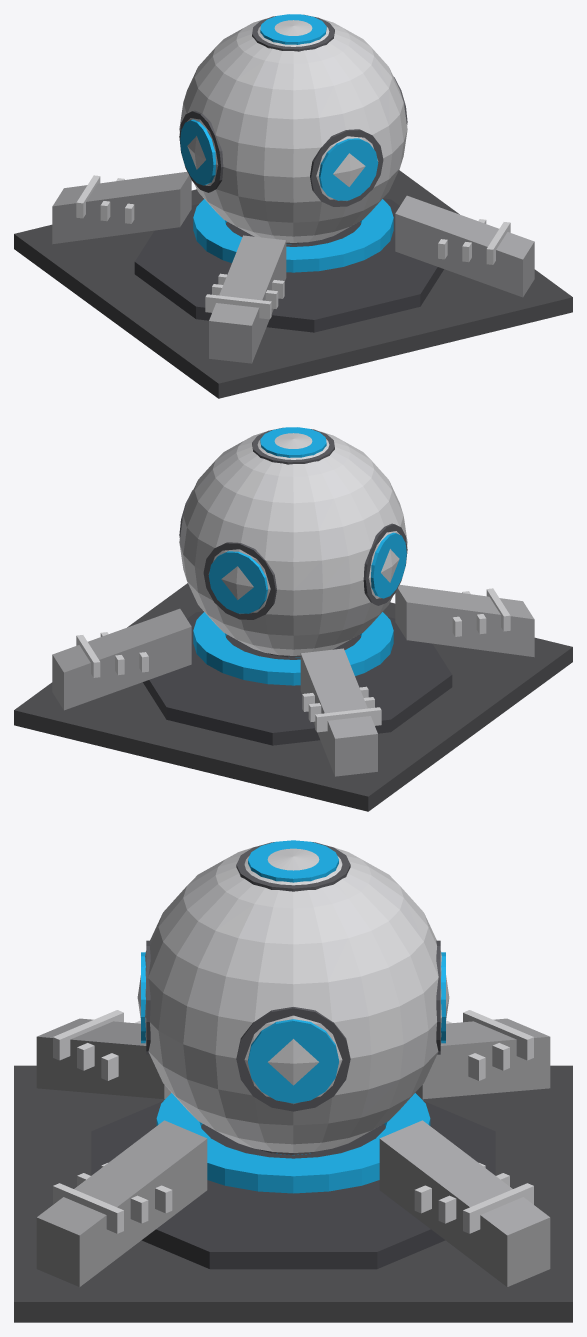
The model's file is vge_grav_field_amplifier.obj.
3 renders of one model, top to bottom at view 1: azimuth 30°, elevation 25°; view 2: azimuth 150°, elevation 25°; view 3: azimuth 270°, elevation 25°, orthographic. The views are drawn at different scales.
Parts seen in each view (by area): view 1: vge_grav_field_amplifier_19, vge_grav_field_amplifier_0, vge_grav_field_amplifier_1, vge_grav_field_amplifier_14, vge_grav_field_amplifier_6, vge_grav_field_amplifier_10, vge_grav_field_amplifier_18, vge_grav_field_amplifier_29, vge_grav_field_amplifier_31, vge_grav_field_amplifier_28, vge_grav_field_amplifier_21, vge_grav_field_amplifier_30 (+2 smaller); view 2: vge_grav_field_amplifier_19, vge_grav_field_amplifier_0, vge_grav_field_amplifier_1, vge_grav_field_amplifier_2, vge_grav_field_amplifier_10, vge_grav_field_amplifier_6, vge_grav_field_amplifier_18, vge_grav_field_amplifier_25, vge_grav_field_amplifier_31, vge_grav_field_amplifier_24, vge_grav_field_amplifier_21, vge_grav_field_amplifier_30 (+2 smaller); view 3: vge_grav_field_amplifier_19, vge_grav_field_amplifier_0, vge_grav_field_amplifier_1, vge_grav_field_amplifier_2, vge_grav_field_amplifier_14, vge_grav_field_amplifier_18, vge_grav_field_amplifier_6, vge_grav_field_amplifier_10, vge_grav_field_amplifier_27, vge_grav_field_amplifier_26, vge_grav_field_amplifier_21, vge_grav_field_amplifier_20 (+4 smaller).
Boxes of the visible parts, box(x1,y1,x2,y2) form: vge_grav_field_amplifier_19: box(179, 18, 407, 242); vge_grav_field_amplifier_0: box(14, 170, 572, 398); vge_grav_field_amplifier_1: box(134, 198, 443, 332); vge_grav_field_amplifier_14: box(395, 195, 534, 297); vge_grav_field_amplifier_6: box(52, 172, 191, 244); vge_grav_field_amplifier_10: box(209, 235, 286, 363); vge_grav_field_amplifier_18: box(193, 199, 393, 272); vge_grav_field_amplifier_29: box(319, 138, 378, 200); vge_grav_field_amplifier_31: box(180, 119, 215, 185); vge_grav_field_amplifier_28: box(310, 129, 383, 206); vge_grav_field_amplifier_21: box(260, 14, 326, 44); vge_grav_field_amplifier_30: box(179, 110, 223, 192); vge_grav_field_amplifier_19: box(179, 431, 407, 655); vge_grav_field_amplifier_0: box(14, 583, 572, 811); vge_grav_field_amplifier_1: box(143, 611, 452, 745); vge_grav_field_amplifier_2: box(52, 608, 191, 710); vge_grav_field_amplifier_10: box(395, 585, 534, 657); vge_grav_field_amplifier_6: box(300, 648, 377, 776); vge_grav_field_amplifier_18: box(193, 612, 393, 685); vge_grav_field_amplifier_25: box(208, 551, 267, 613); vge_grav_field_amplifier_31: box(371, 532, 406, 598); vge_grav_field_amplifier_24: box(203, 542, 276, 619); vge_grav_field_amplifier_21: box(260, 427, 326, 457); vge_grav_field_amplifier_30: box(363, 523, 407, 605); vge_grav_field_amplifier_19: box(137, 846, 449, 1152); vge_grav_field_amplifier_0: box(14, 1065, 572, 1322); vge_grav_field_amplifier_1: box(91, 1101, 495, 1269); vge_grav_field_amplifier_2: box(379, 1120, 550, 1286); vge_grav_field_amplifier_14: box(36, 1120, 207, 1286); vge_grav_field_amplifier_18: box(156, 1093, 430, 1193); vge_grav_field_amplifier_6: box(415, 1018, 550, 1099); vge_grav_field_amplifier_10: box(36, 1018, 171, 1099); vge_grav_field_amplifier_27: box(248, 1019, 338, 1103); vge_grav_field_amplifier_26: box(236, 1007, 350, 1111); vge_grav_field_amplifier_21: box(248, 840, 338, 882); vge_grav_field_amplifier_20: box(236, 842, 350, 891).
Size of the model in its own units: 2.94 by 2.02 by 2.94.
